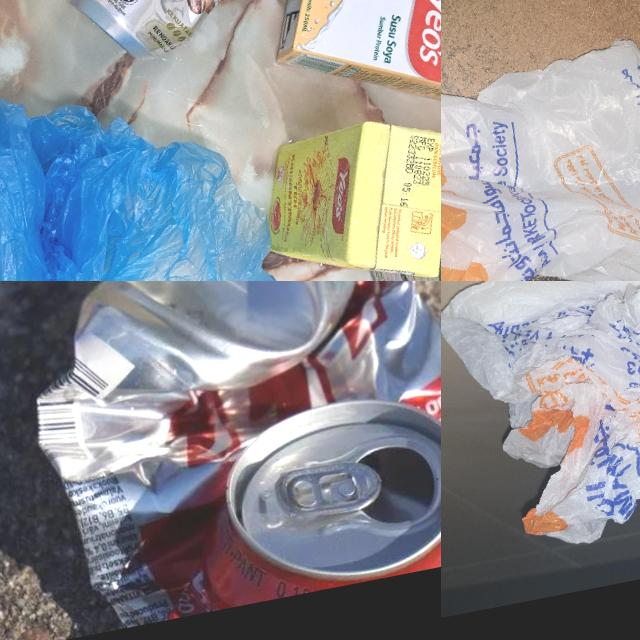aba de lata: (273, 452, 387, 524)
caixinha: (261, 97, 441, 281), (260, 0, 441, 151)
lata: (1, 281, 441, 636), (57, 0, 354, 72), (361, 152, 441, 281)
sacola plástica: (0, 45, 291, 281), (441, 281, 640, 564), (441, 6, 640, 281)
